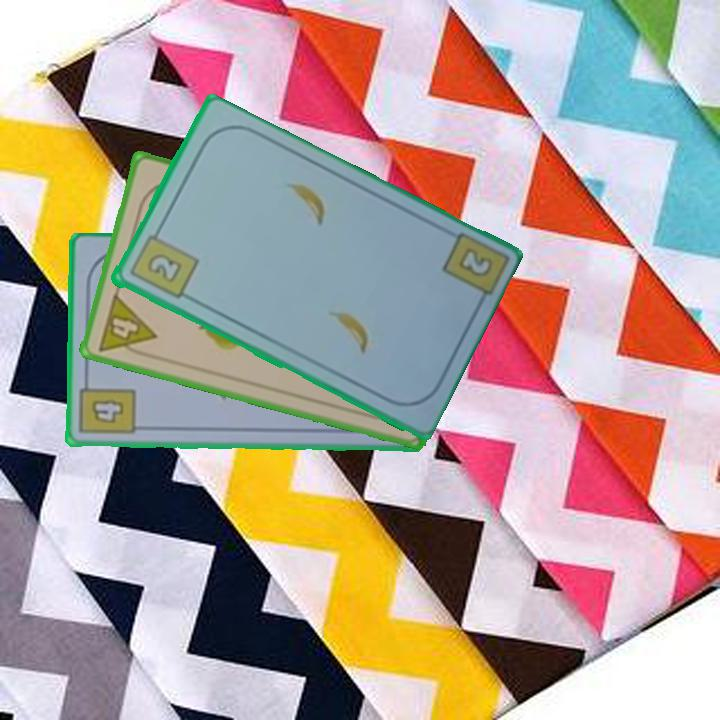2b: (125, 224, 200, 302), (454, 244, 492, 281)
4b: (76, 374, 138, 438)
4p: (94, 290, 159, 362)
